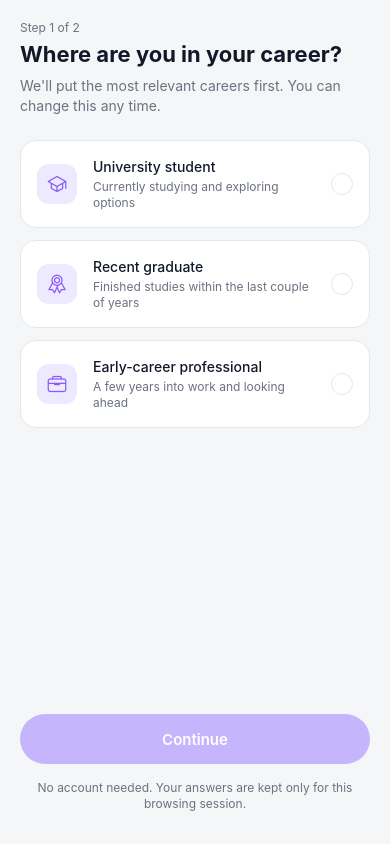
it: CareerLevelScreen › Continue navigates to Step 2 and the selection is preserved
Click the button with test id "level-RECENT_GRAD" at (195, 284), box left=20, top=240, right=370, bottom=328
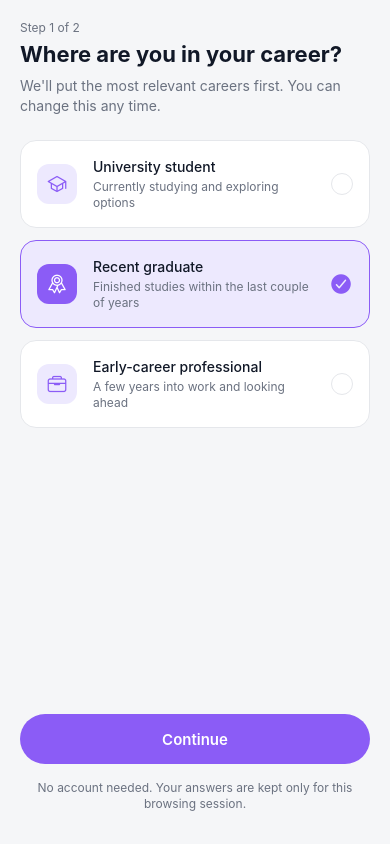
Click the button with test id "continue-button" at (195, 739), box left=20, top=714, right=370, bottom=764
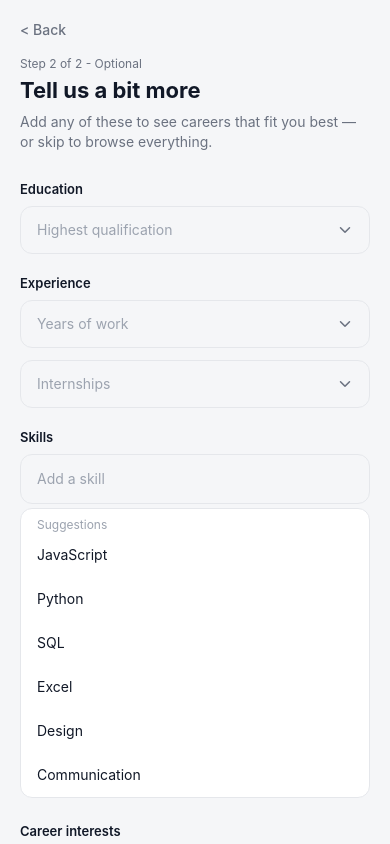
Check: the text "Tell us a bit more" is shown, box left=20, top=77, right=201, bottom=103
